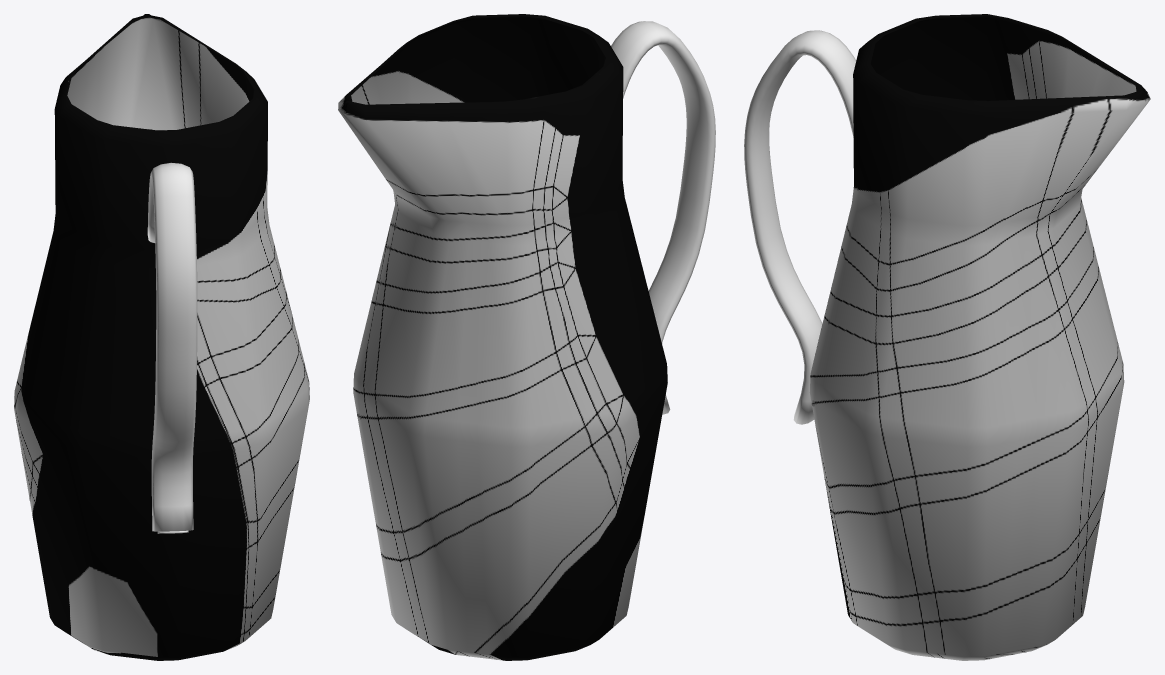
Rendered from Evil-Jug.fbx.
3 views of the same model, side by side, from view 1: azimuth 30°, elevation 25°; view 2: azimuth 150°, elevation 25°; view 3: azimuth 270°, elevation 25° (orthographic). The views are drawn at different scales.
Visible parts, largest first — view 1: jug, handle; view 2: jug, handle; view 3: jug, handle.
Part boxes in pixels (x1=…): jug: x1=14, y1=14, x2=309, y2=660; handle: x1=147, y1=162, x2=197, y2=533; jug: x1=338, y1=14, x2=667, y2=660; handle: x1=611, y1=21, x2=715, y2=414; jug: x1=809, y1=14, x2=1150, y2=660; handle: x1=744, y1=30, x2=856, y2=424.
Bounding box in the file's own units: 199 × 392 × 259.
